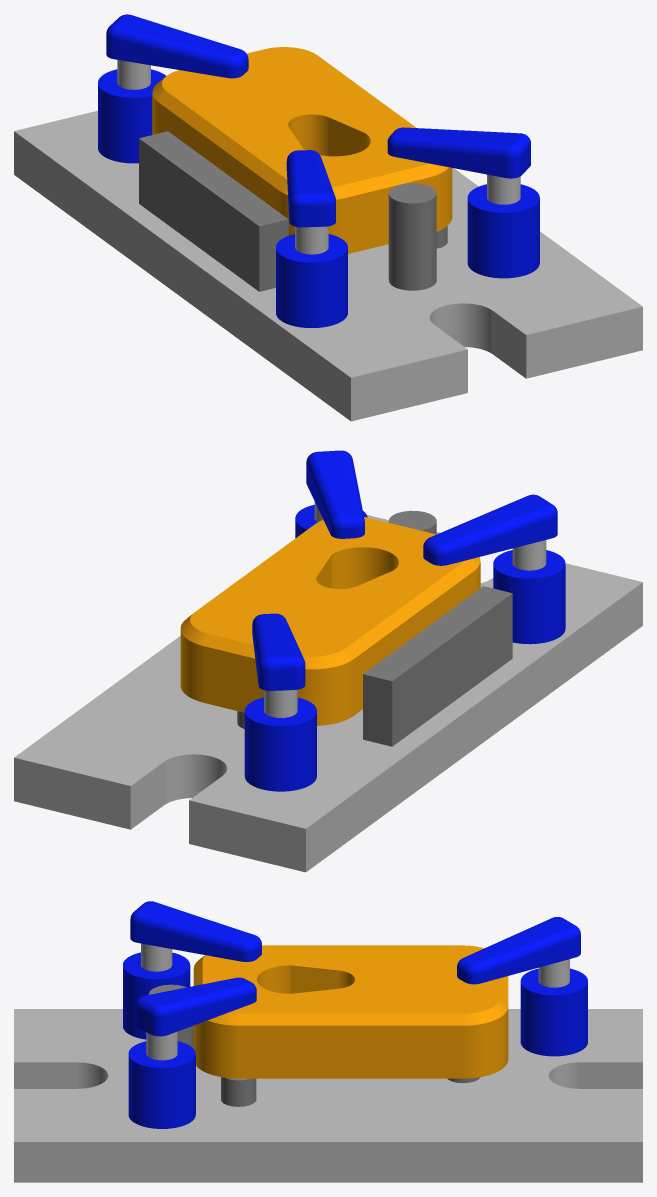
3 views of the same model, one above another, from view 1: azimuth 30°, elevation 25°; view 2: azimuth 150°, elevation 25°; view 3: azimuth 270°, elevation 25° (orthographic). The views are drawn at different scales.
Parts seen in each view (by area): view 1: com_peca; view 2: com_peca; view 3: com_peca.
Boxes of the visible parts, bbox=[...] form: com_peca: bbox=[14, 14, 642, 421]; com_peca: bbox=[14, 450, 642, 872]; com_peca: bbox=[14, 901, 642, 1182].
Bounding box in the file's own units: 7 × 3.88 × 14.
